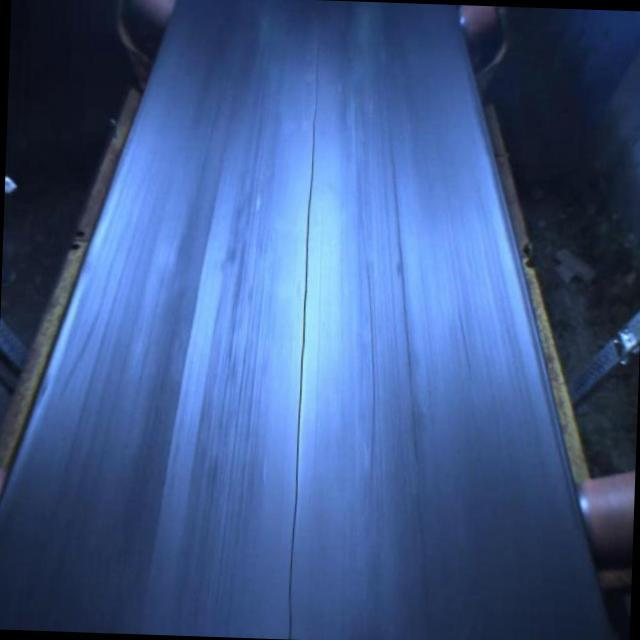Tear: (278, 22, 329, 640)
